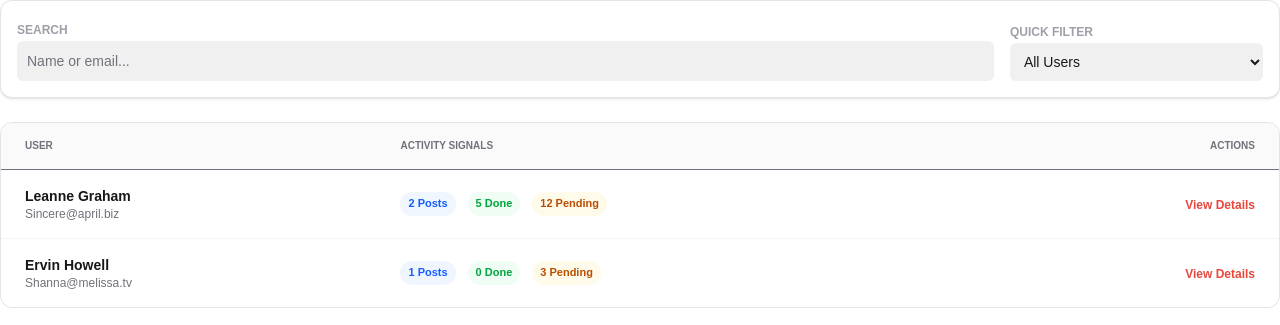
Scenario: Komponen UsersTable › menyaring data user berdasarkan input pencarian
Type "Ervin" into the field with placeholder "Name or email..." at (505, 61), box [17,41,994,81]
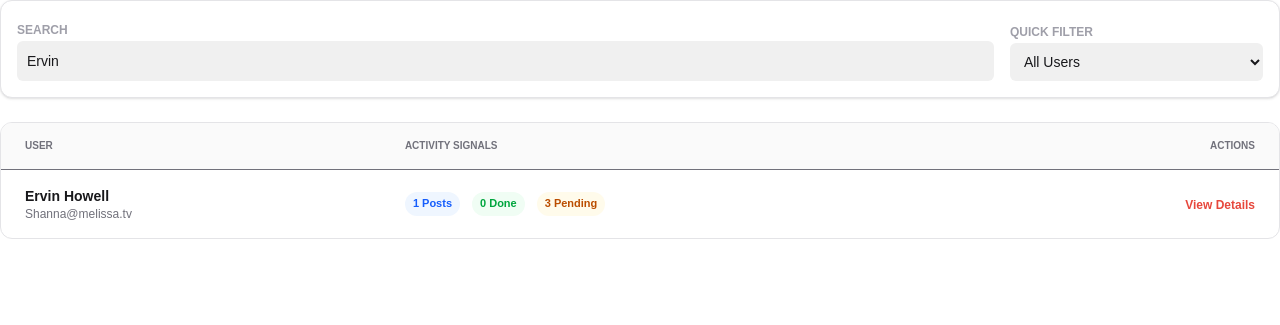
Expected: the text "Ervin Howell" is shown, [25,188,109,204]
Expected: the text "Leanne Graham" is gone
